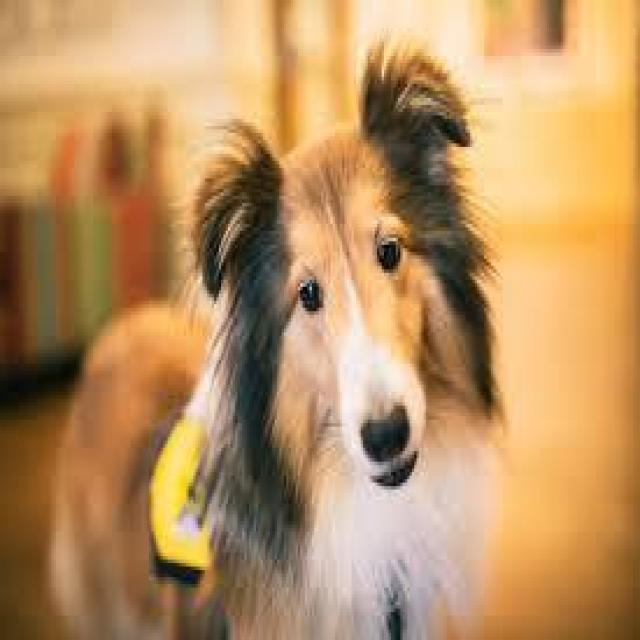Dog: (84, 59, 542, 618)
